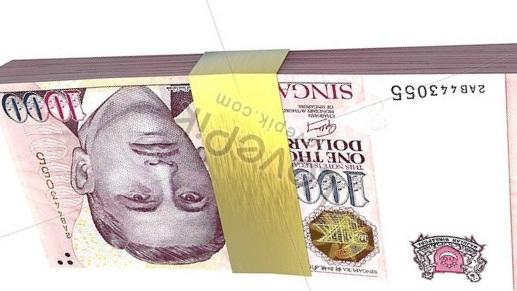1000SingaporeDollar: (0, 84, 517, 281)
